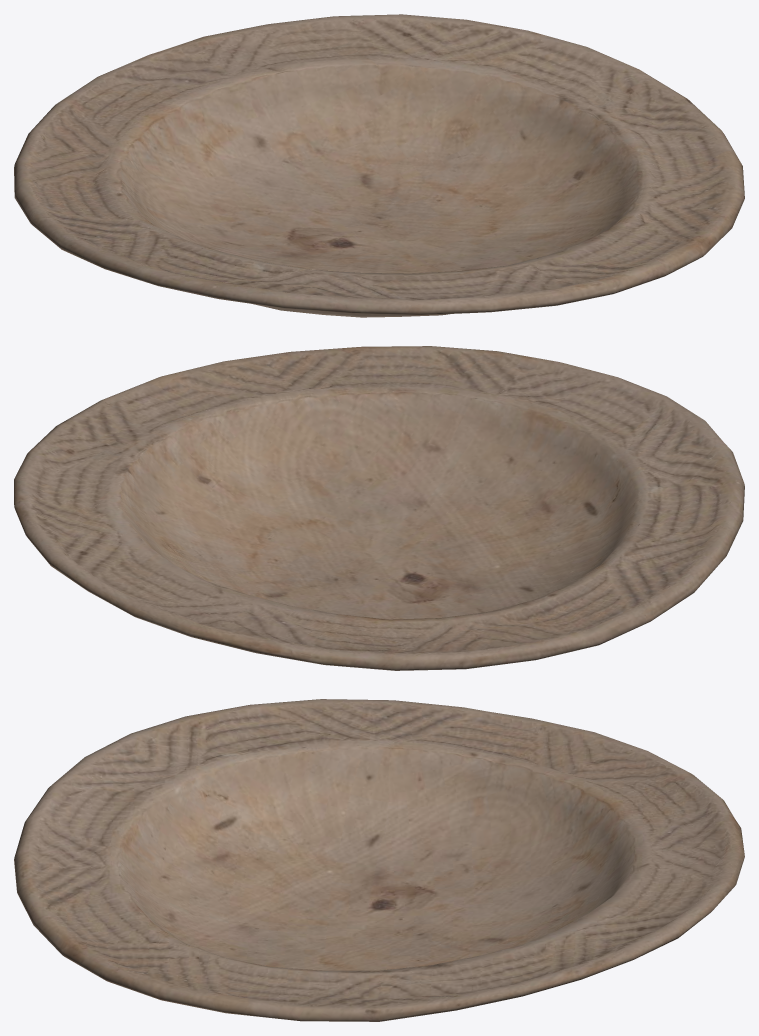
File: carved_wooden_plate.glb
3 renders of one model, top to bottom at view 1: azimuth 30°, elevation 25°; view 2: azimuth 150°, elevation 25°; view 3: azimuth 270°, elevation 25°, orthographic. The views are drawn at different scales.
Visible parts, largest first — view 1: carved_wooden_plate; view 2: carved_wooden_plate; view 3: carved_wooden_plate.
Boxes of the visible parts, bbox=[...] form: carved_wooden_plate: bbox=[14, 14, 744, 317]; carved_wooden_plate: bbox=[14, 346, 744, 670]; carved_wooden_plate: bbox=[14, 699, 744, 1021].
Size of the model in its own units: 0.2718 by 0.0381 by 0.2688.
1 material, 1 textured.
